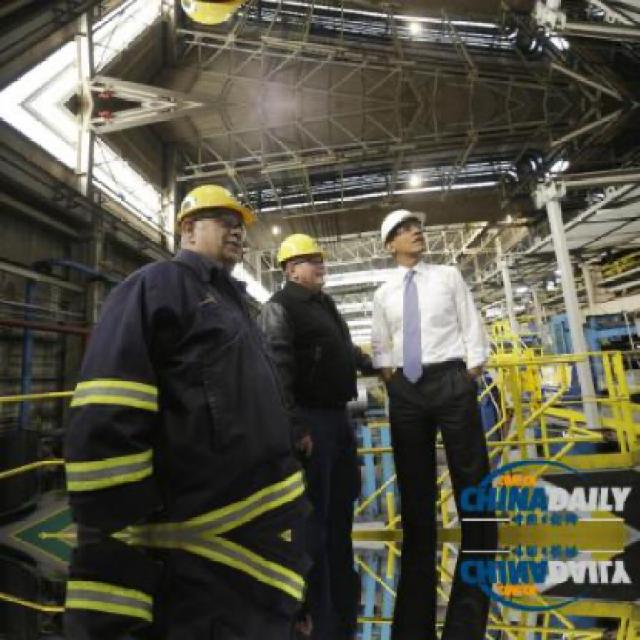Reflective-Jacket: (29, 268, 326, 530)
Safety-Helmet: (169, 180, 262, 232), (371, 203, 431, 248), (271, 228, 335, 269)
